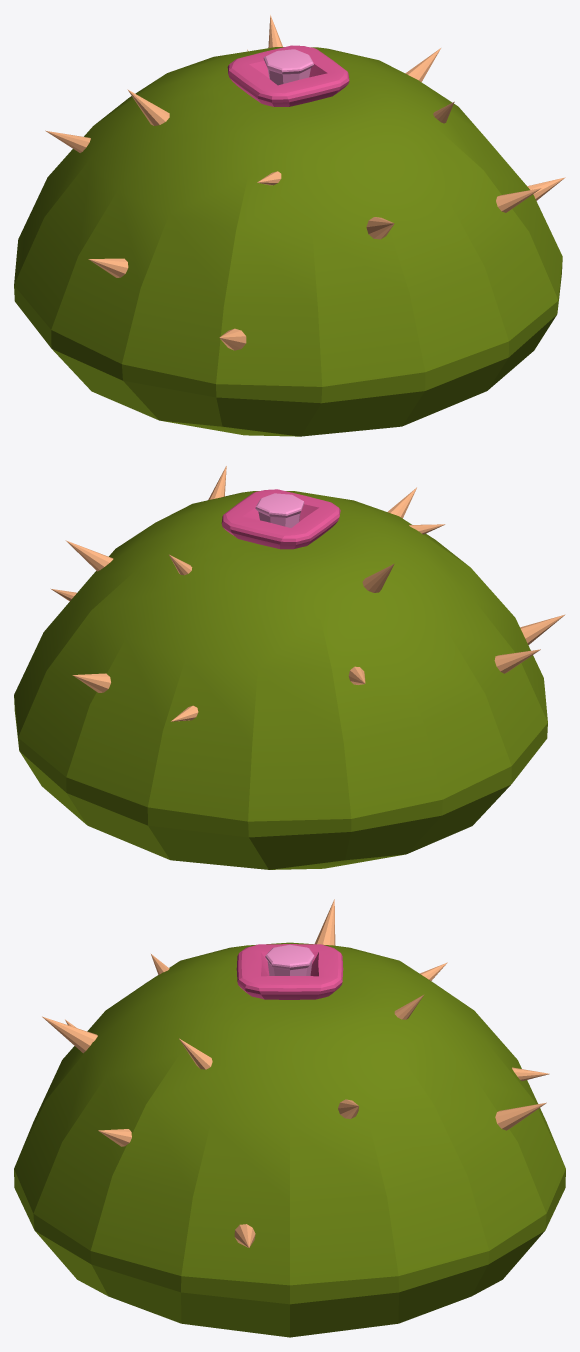
File: cactus_3.fbx
3 renders of one model, top to bottom at view 1: azimuth 30°, elevation 25°; view 2: azimuth 150°, elevation 25°; view 3: azimuth 270°, elevation 25°, orthographic. The views are drawn at different scales.
Parts seen in each view (by area): view 1: cacto bola; view 2: cacto bola; view 3: cacto bola.
Part boxes in pixels (x1,y1,x2,y2): cacto bola: (14,15,565,436); cacto bola: (14,466,565,869); cacto bola: (14,899,565,1337).
Bounding box in the file's own units: 8.52 × 5.4 × 8.17.
